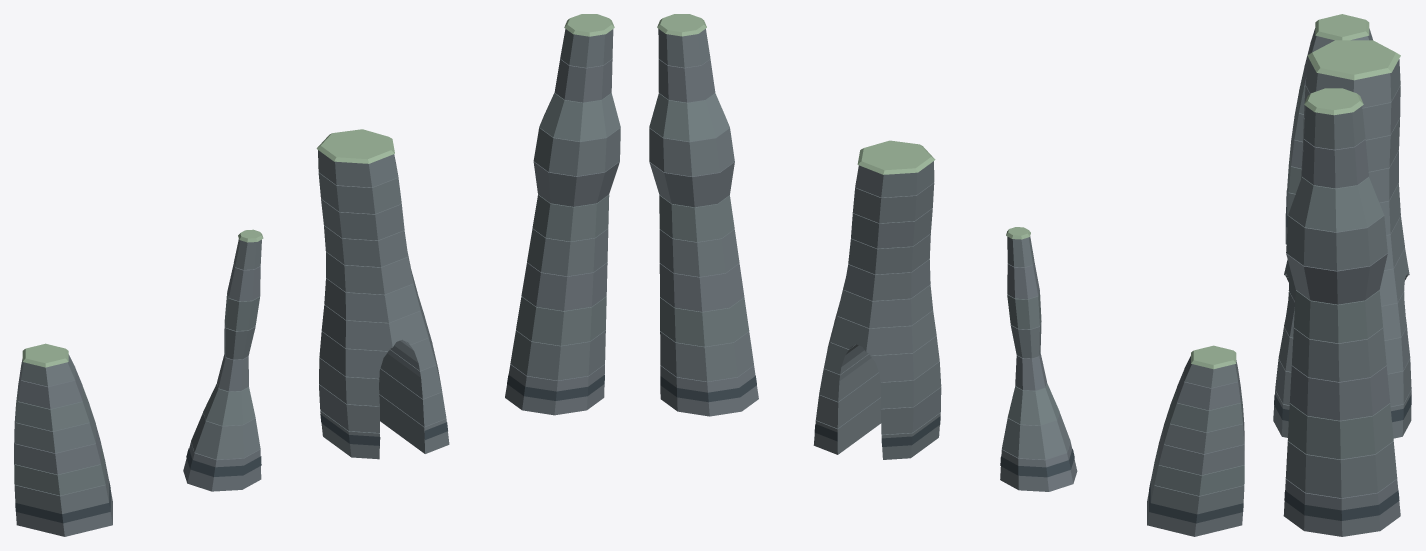
Rendered from sea-stack-set.glb.
3 renders of one model, left to right at view 1: azimuth 30°, elevation 25°; view 2: azimuth 150°, elevation 25°; view 3: azimuth 270°, elevation 25°, orthographic. The views are drawn at different scales.
Visible parts, largest first — view 1: stack_40_tapered_block_courses, stack_32_tapered_block_courses, stack_18_tapered_block_courses, stack_26_tapered_block_courses, stack_32_moss_cap, stack_40_wave_cut_notch, stack_18_wave_cut_notch, stack_40_moss_cap, stack_18_moss_cap, stack_26_wave_cut_notch, stack_32_wave_cut_notch; view 2: stack_40_tapered_block_courses, stack_32_tapered_block_courses, stack_18_tapered_block_courses, stack_26_tapered_block_courses, stack_32_moss_cap, stack_40_wave_cut_notch, stack_18_wave_cut_notch, stack_40_moss_cap, stack_18_moss_cap, stack_26_wave_cut_notch, stack_32_wave_cut_notch; view 3: stack_40_tapered_block_courses, stack_32_tapered_block_courses, stack_32_moss_cap, stack_18_tapered_block_courses, stack_40_wave_cut_notch, stack_40_moss_cap, stack_18_moss_cap, stack_32_wave_cut_notch.
Boxes of the visible parts, left/top/right/bottom form: stack_40_tapered_block_courses: left=505, top=29, right=620, bottom=415; stack_32_tapered_block_courses: left=318, top=150, right=449, bottom=459; stack_18_tapered_block_courses: left=14, top=354, right=112, bottom=536; stack_26_tapered_block_courses: left=183, top=239, right=261, bottom=491; stack_32_moss_cap: left=316, top=129, right=394, bottom=163; stack_40_wave_cut_notch: left=507, top=374, right=604, bottom=400; stack_18_wave_cut_notch: left=15, top=481, right=110, bottom=523; stack_40_moss_cap: left=564, top=14, right=614, bottom=36; stack_18_moss_cap: left=22, top=343, right=68, bottom=367; stack_26_wave_cut_notch: left=186, top=448, right=261, bottom=476; stack_32_wave_cut_notch: left=320, top=414, right=447, bottom=445; stack_40_tapered_block_courses: left=649, top=29, right=758, bottom=416; stack_32_tapered_block_courses: left=813, top=161, right=941, bottom=459; stack_18_tapered_block_courses: left=1147, top=356, right=1244, bottom=536; stack_26_tapered_block_courses: left=1000, top=236, right=1077, bottom=491; stack_32_moss_cap: left=857, top=140, right=935, bottom=174; stack_40_wave_cut_notch: left=660, top=376, right=756, bottom=402; stack_18_wave_cut_notch: left=1149, top=481, right=1243, bottom=523; stack_40_moss_cap: left=657, top=14, right=706, bottom=36; stack_18_moss_cap: left=1191, top=345, right=1236, bottom=369; stack_26_wave_cut_notch: left=1000, top=449, right=1074, bottom=477; stack_32_wave_cut_notch: left=814, top=416, right=940, bottom=446; stack_40_tapered_block_courses: left=1283, top=106, right=1400, bottom=536; stack_32_tapered_block_courses: left=1273, top=58, right=1411, bottom=438; stack_32_moss_cap: left=1307, top=40, right=1400, bottom=80; stack_18_tapered_block_courses: left=1285, top=28, right=1372, bottom=244; stack_40_wave_cut_notch: left=1284, top=490, right=1399, bottom=520; stack_40_moss_cap: left=1304, top=88, right=1363, bottom=115; stack_18_moss_cap: left=1315, top=14, right=1369, bottom=40; stack_32_wave_cut_notch: left=1274, top=394, right=1411, bottom=422.
Bounding box in the file's own units: 68.53 × 40 × 11.66.
